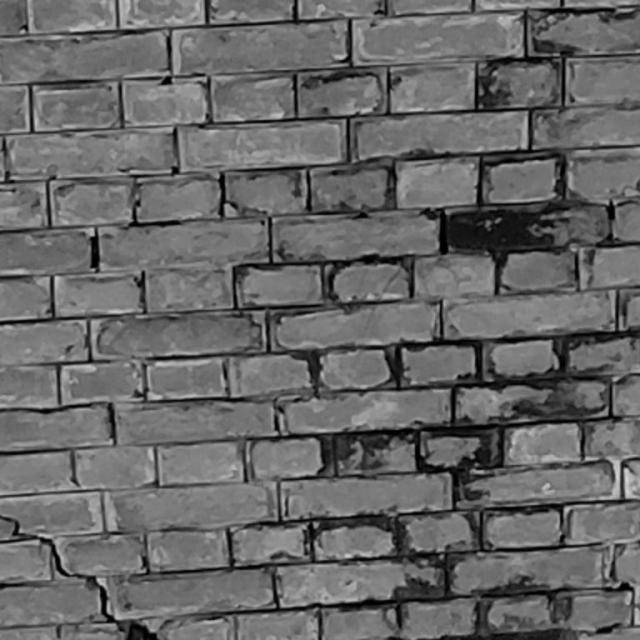crack: (1, 515, 160, 640)
